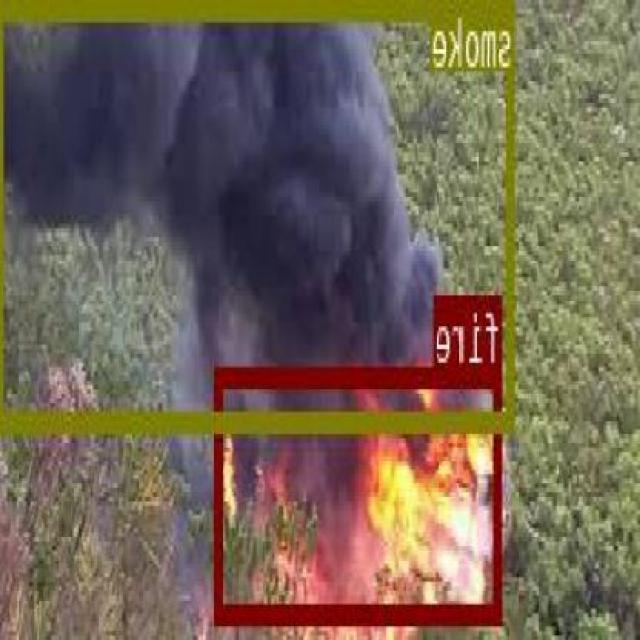Fire: (216, 362, 502, 621)
Smoke: (2, 0, 516, 429)
